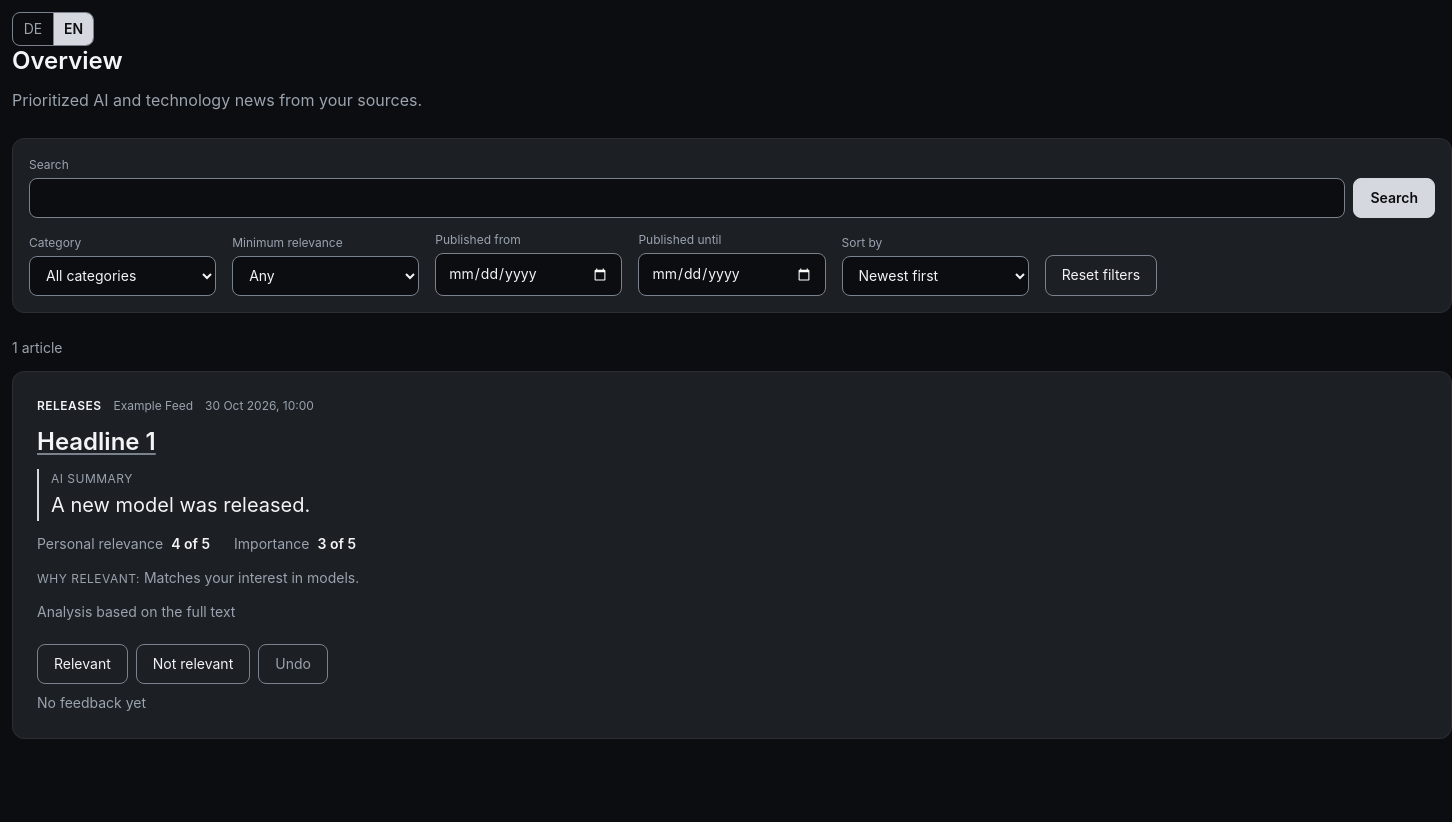
Test: search, filters, sorting, and pages › rejects an inverted period without querying it
Expected: the element that starts with "Releases" is shown, left=12, top=371, right=1451, bottom=739
Type "2026-10-31" into the date field labelled "Published from" at coordinates (529, 275), box left=435, top=253, right=622, bottom=296
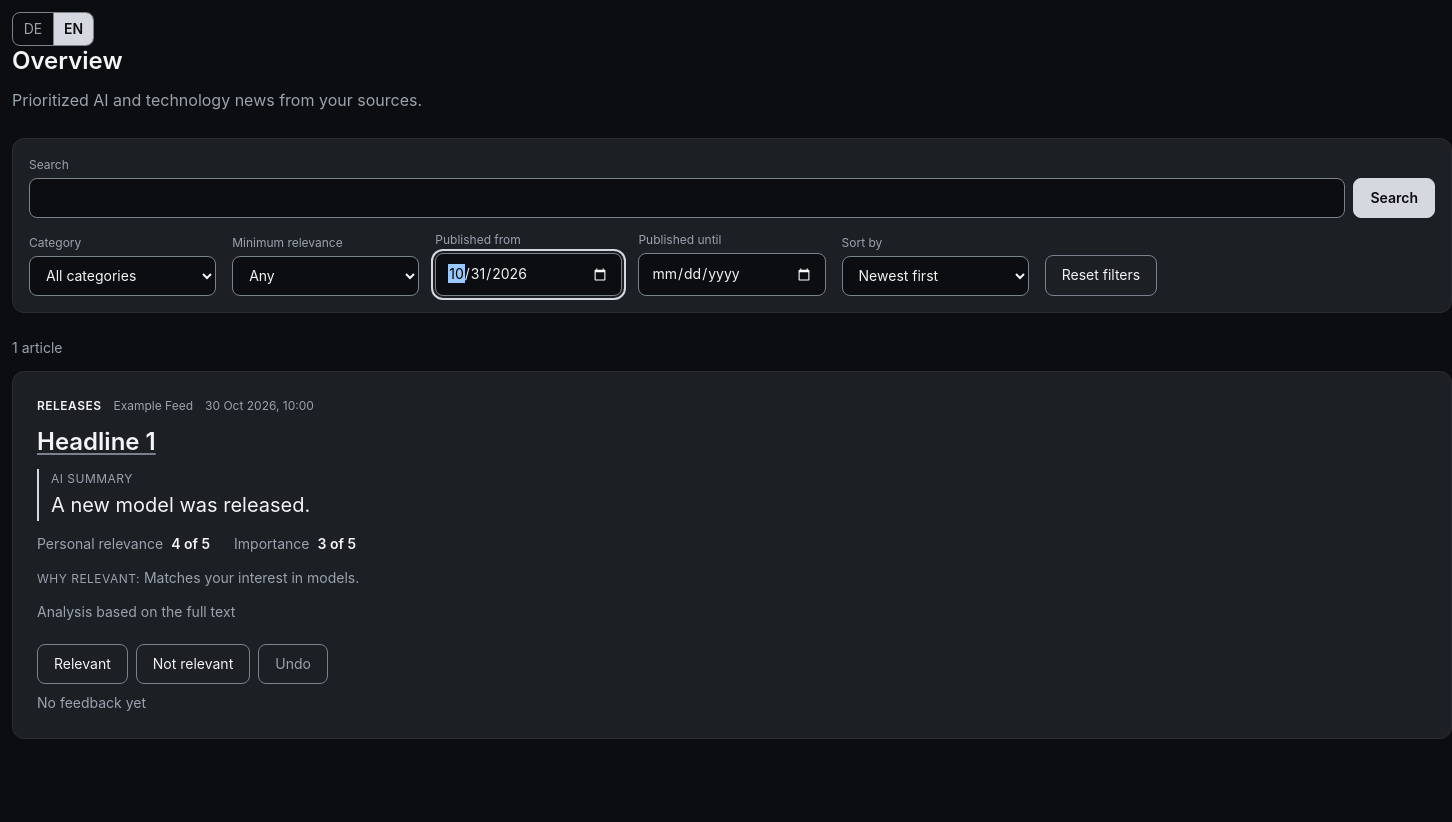
Type "2026-10-01" into the date field labelled "Published until" at coordinates (732, 275), box left=638, top=253, right=826, bottom=296
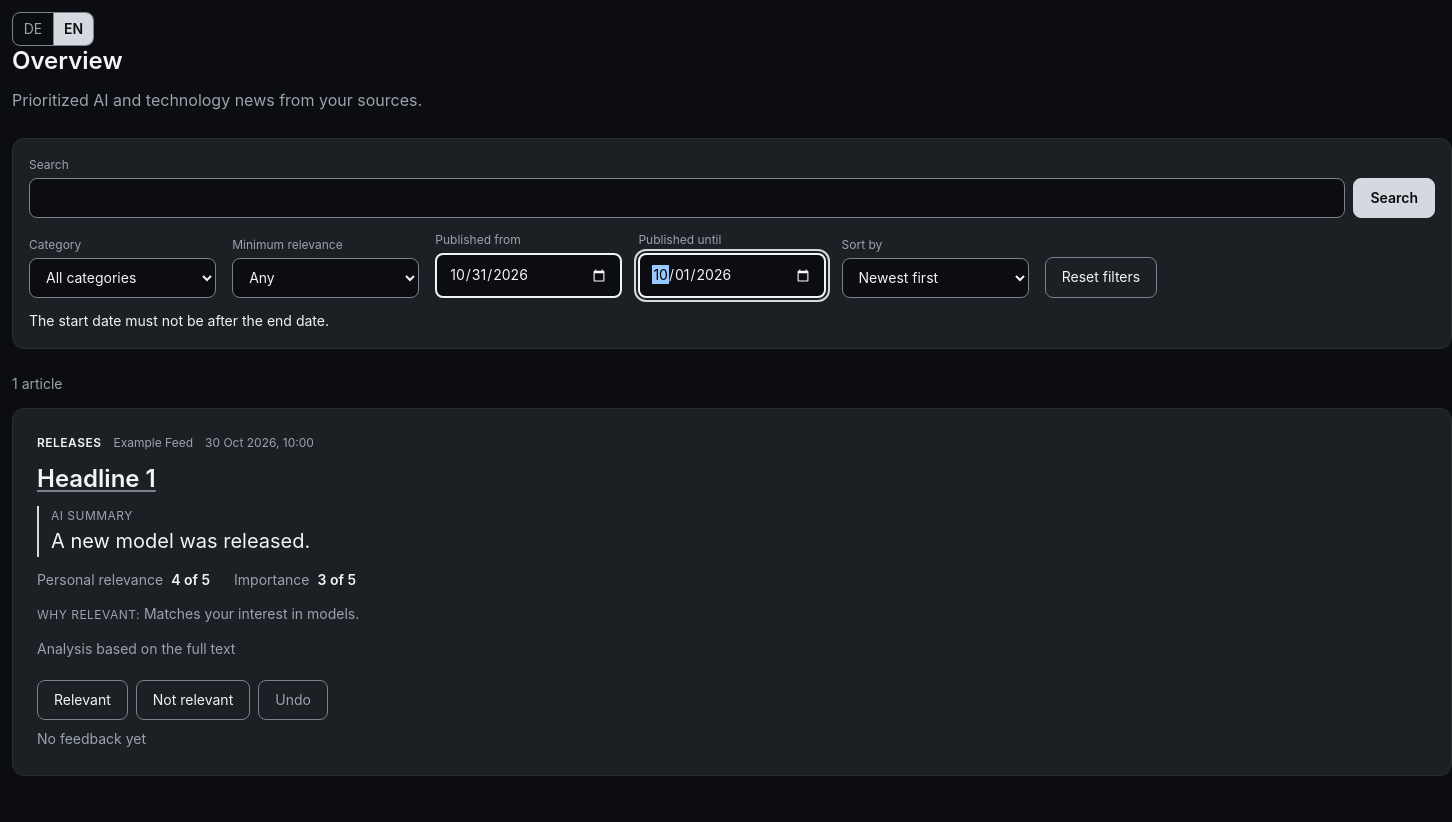
Expected: the message "The start date must not be after the end date." is shown, left=29, top=312, right=329, bottom=329
